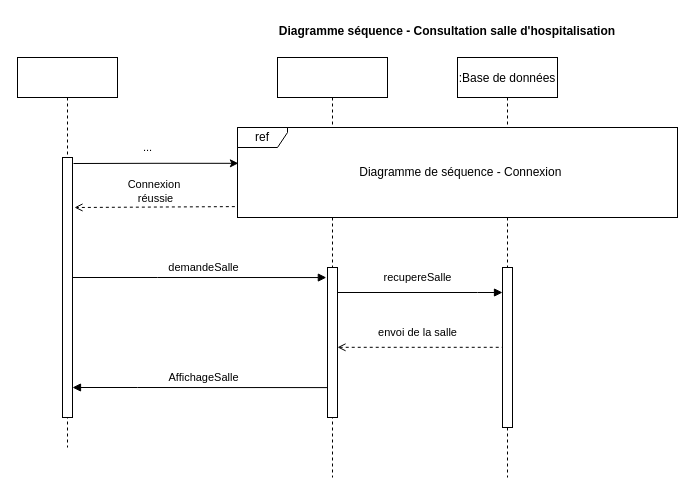
The diagram is 695 pixels wide and 495 high, and some of its shapes have lost their labels. Each missing label, with the centre of its shape:
Borne d'accueil: API: the point at 332,267
patient:Patient: the point at 67,77
